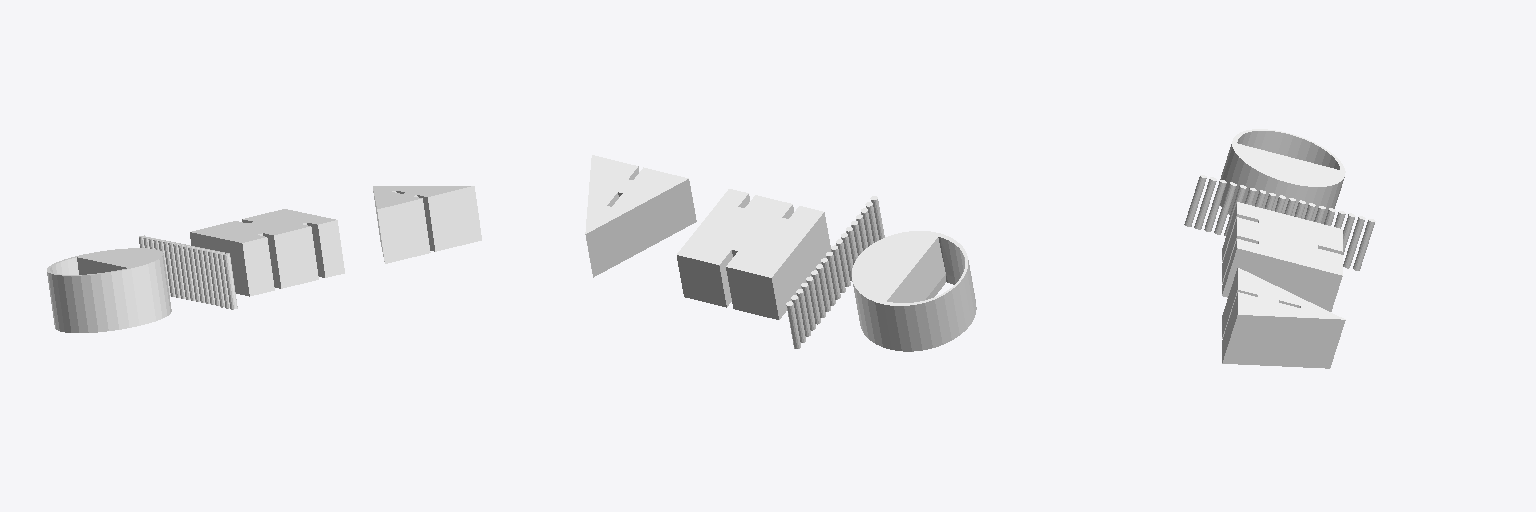
File: dma.obj
3 views of the same model, side by side, from view 1: azimuth 30°, elevation 25°; view 2: azimuth 150°, elevation 25°; view 3: azimuth 270°, elevation 25° (orthographic).
Parts seen in each view (by area): view 1: group1 polySurface8, polySurface3 group1, group1 polySurface5, group1 pCylinder2 pCylinder3 pCylinder4 pCylinder5 pCylinder6 pC; view 2: polySurface3 group1, group1 polySurface8, group1 polySurface5, group1 pCylinder2 pCylinder3 pCylinder4 pCylinder5 pCylinder6 pC; view 3: polySurface3 group1, group1 polySurface5, group1 polySurface8, group1 pCylinder2 pCylinder3 pCylinder4 pCylinder5 pCylinder6 pC.
Part boxes in pixels (x1,y1,x2,y2): group1 polySurface8: (47, 248, 171, 332); polySurface3 group1: (190, 209, 344, 296); group1 polySurface5: (373, 186, 481, 263); group1 pCylinder2 pCylinder3 pCylinder4 pCylinder5 pCylinder6 pC: (139, 235, 237, 309); polySurface3 group1: (677, 189, 830, 319); group1 polySurface8: (852, 231, 976, 351); group1 polySurface5: (585, 155, 696, 277); group1 pCylinder2 pCylinder3 pCylinder4 pCylinder5 pCylinder6 pC: (786, 196, 884, 348); polySurface3 group1: (1222, 202, 1342, 311); group1 polySurface5: (1222, 268, 1345, 368); group1 polySurface8: (1220, 129, 1345, 223); group1 pCylinder2 pCylinder3 pCylinder4 pCylinder5 pCylinder6 pC: (1184, 175, 1375, 270).
Bounding box in the file's own units: 24.32 × 5.58 × 10.2.